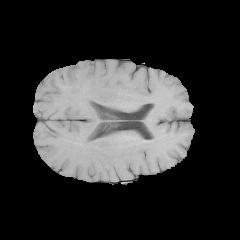glioma: (53, 63, 83, 87)
